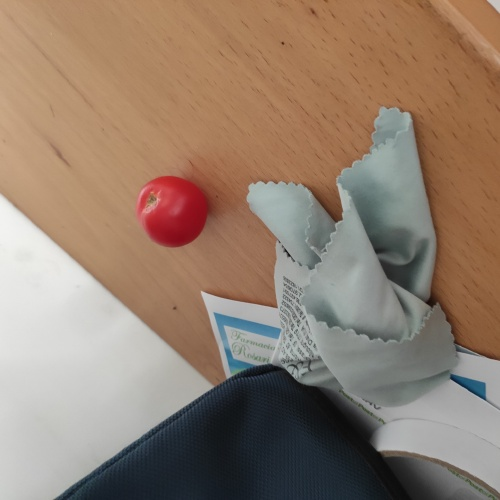pomodoro: (128, 168, 216, 254)
